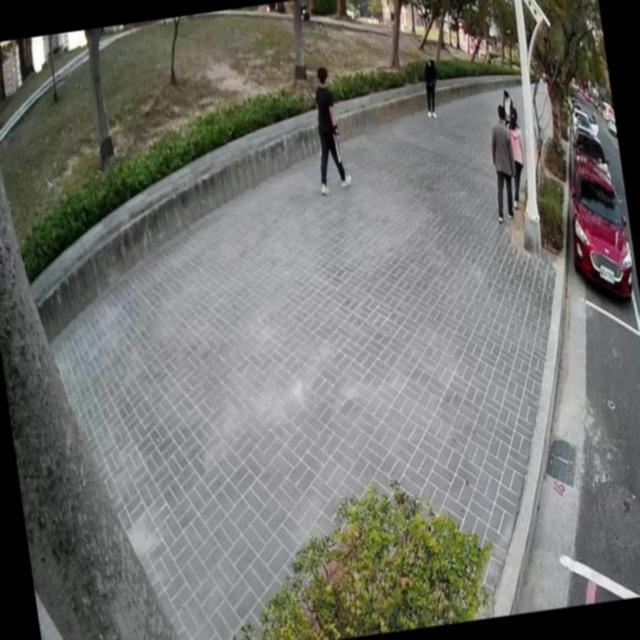person: (300, 57, 354, 197), (479, 98, 525, 228), (498, 103, 533, 213), (418, 56, 444, 121), (497, 84, 518, 128)
